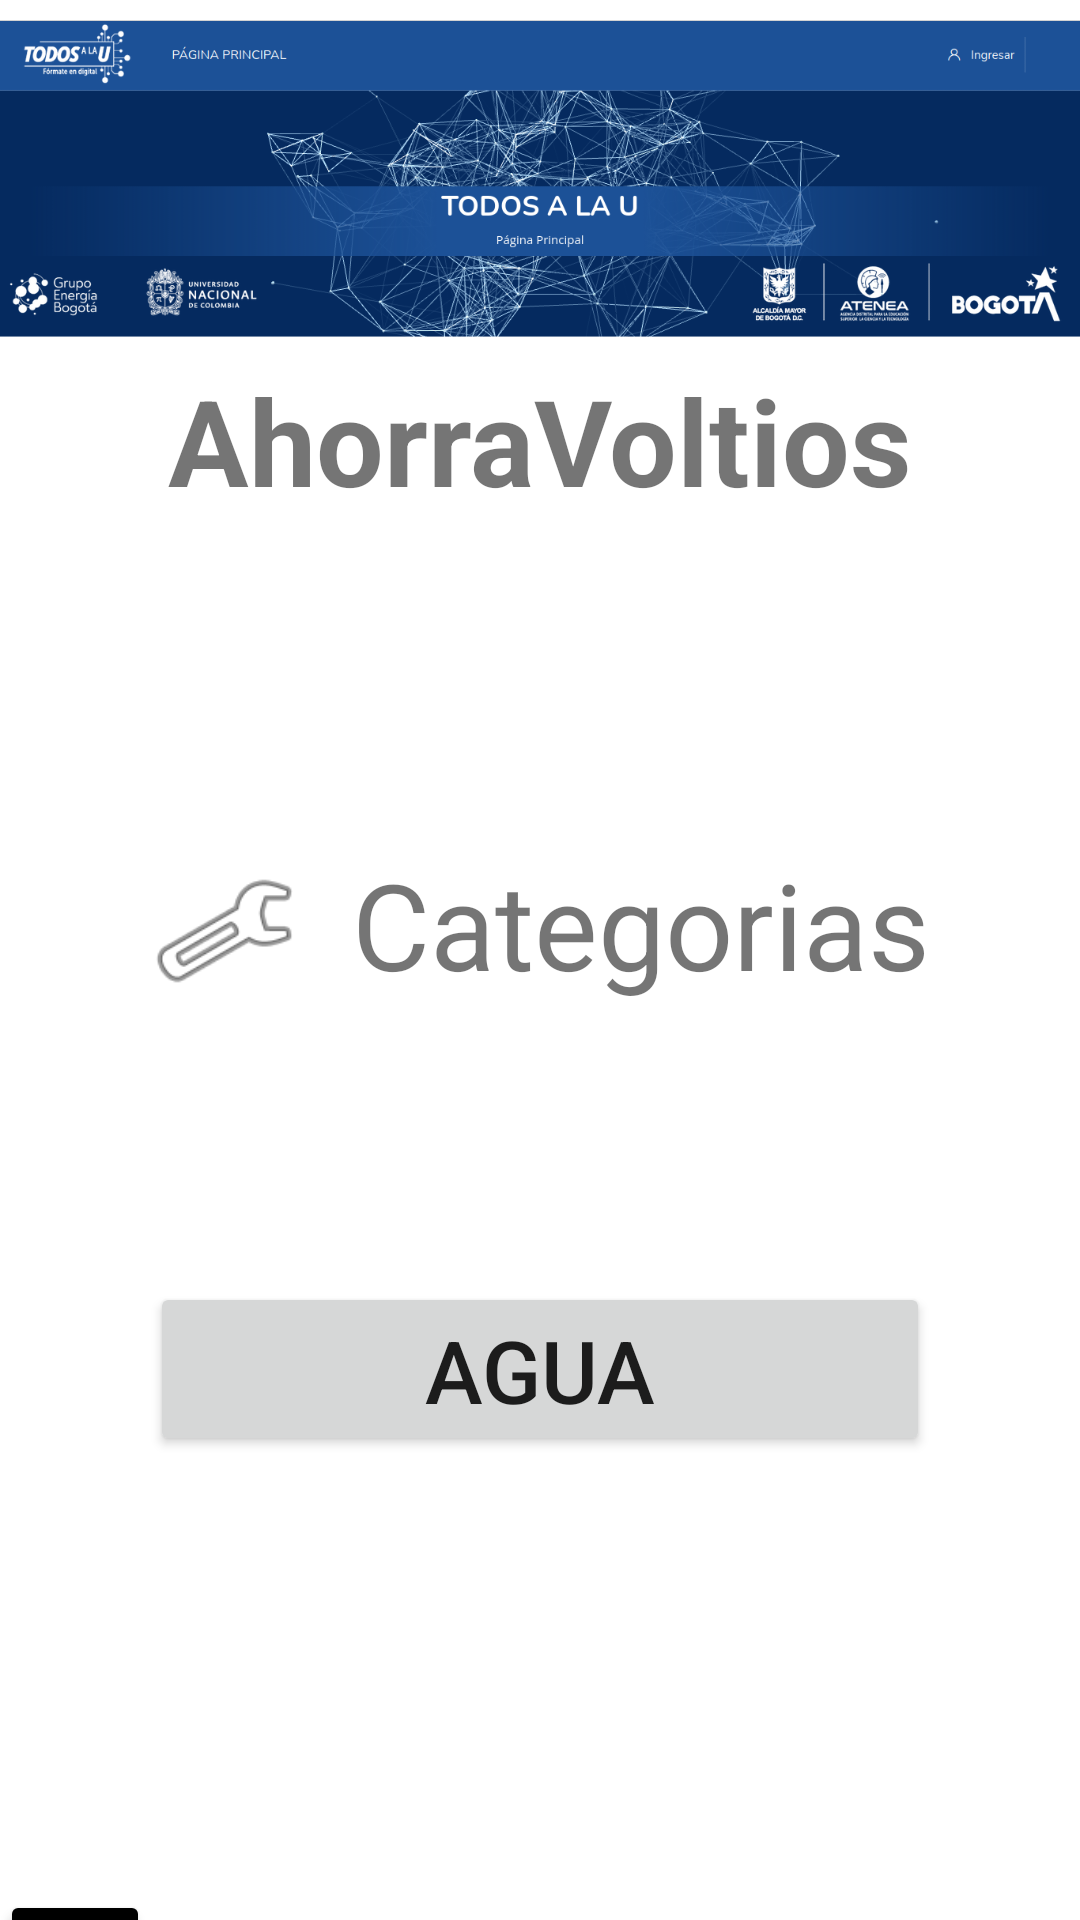

Icons on this 1080px×1920px Android screen, each with its box as BBox(x1, y1, x2, y2):
manage: BBox(157, 880, 292, 982)
